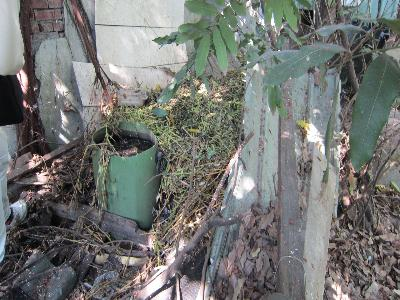bucket: (89, 121, 160, 233)
